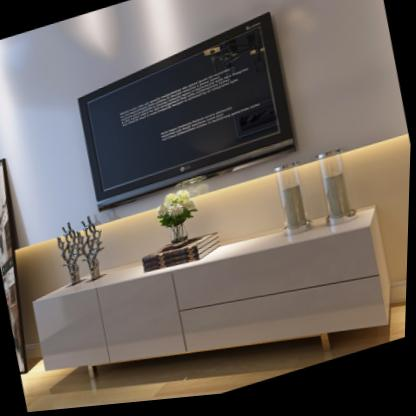TV stand: (34, 212, 392, 392)
